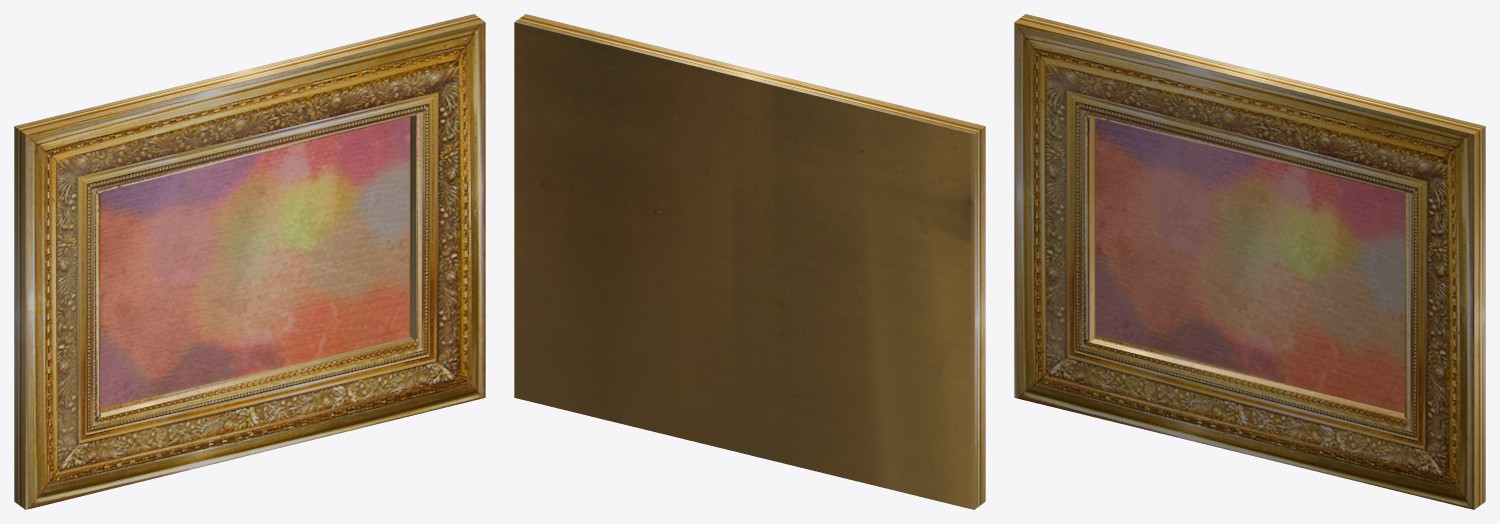
The model's file is picture_frame.fbx.
3 views of the same model, side by side, from view 1: azimuth 30°, elevation 25°; view 2: azimuth 150°, elevation 25°; view 3: azimuth 330°, elevation 25° (orthographic).
Visible parts, largest first — view 1: picture_frame; view 2: picture_frame; view 3: picture_frame.
Part boxes in pixels (x1,y1,x2,y2): picture_frame: (14, 14, 485, 509); picture_frame: (514, 14, 985, 509); picture_frame: (1014, 14, 1485, 509).
Bounding box in the file's own units: 89.41 × 69.75 × 3.81.
